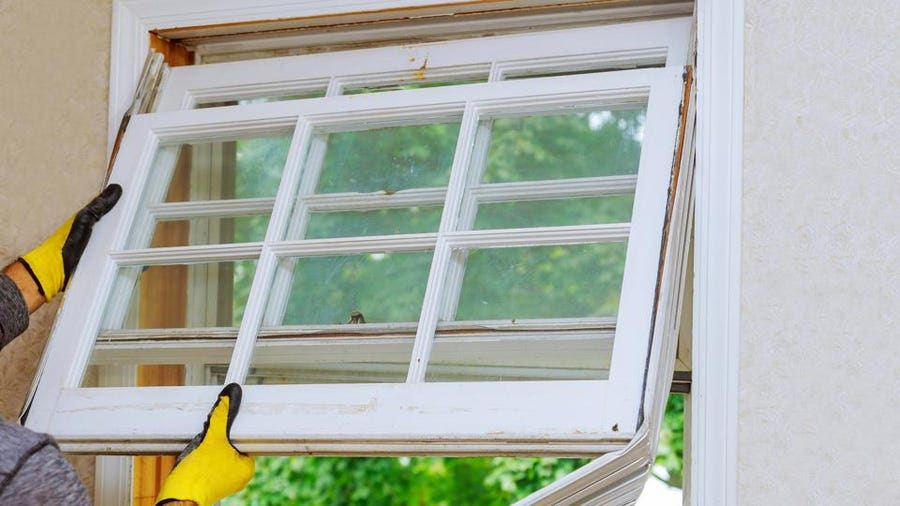Window: (32, 111, 652, 438)
